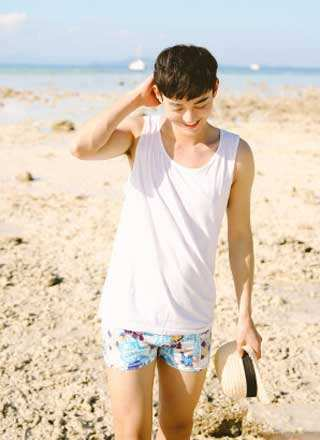person: (85, 47, 283, 432)
